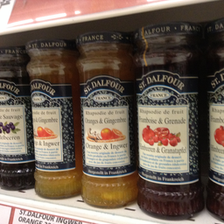jam: (135, 23, 204, 219), (75, 31, 138, 210), (26, 39, 80, 199), (1, 46, 32, 192), (204, 20, 224, 214)
